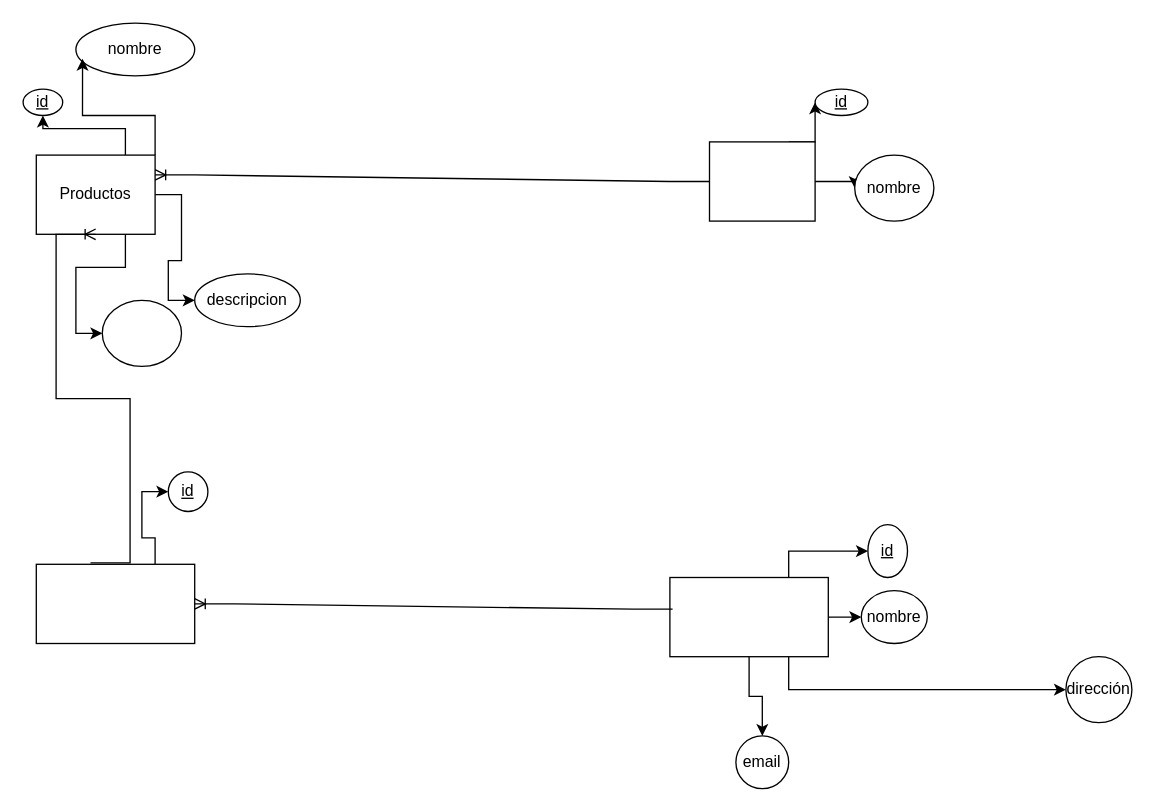
This 1155x812 diagram has some shape labels left out. Each missing label, with the centre of its shape:
Categorías: point 761,181
Clientes: point 748,616
Pedidos: point 115,603
precio: point 141,332
